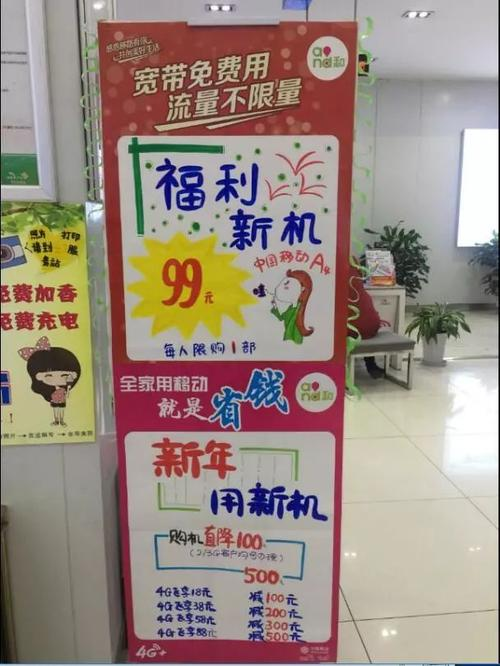bill: (97, 23, 358, 666), (1, 198, 87, 442)
